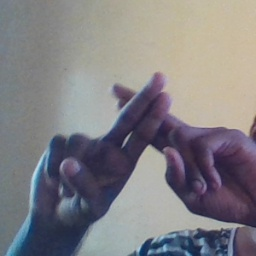F: (62, 60, 228, 195)
